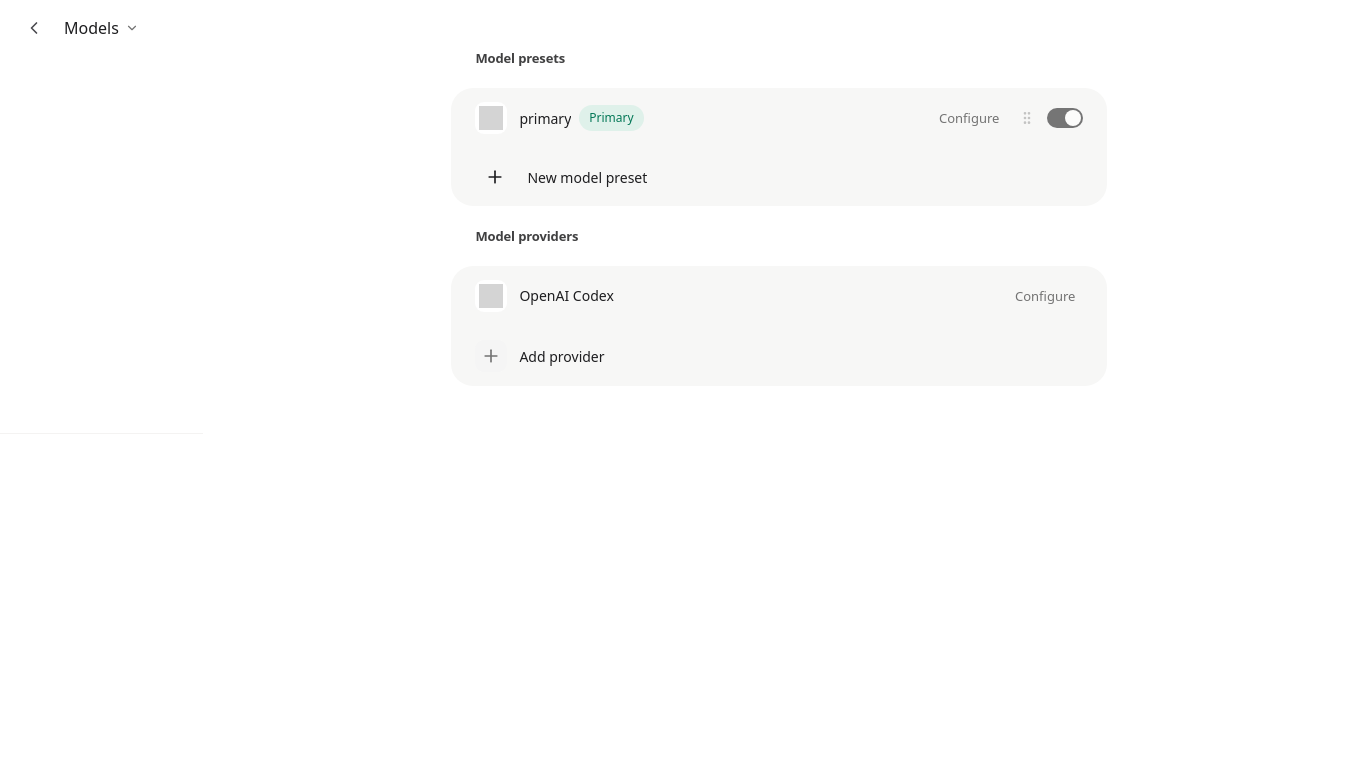
Test: Settings models › reauthenticates from the catalog and preserves the preset draft (poll)
The image size is (1366, 768).
Click the button "New model preset".
click(587, 177)  # box [451,148,1107,206]
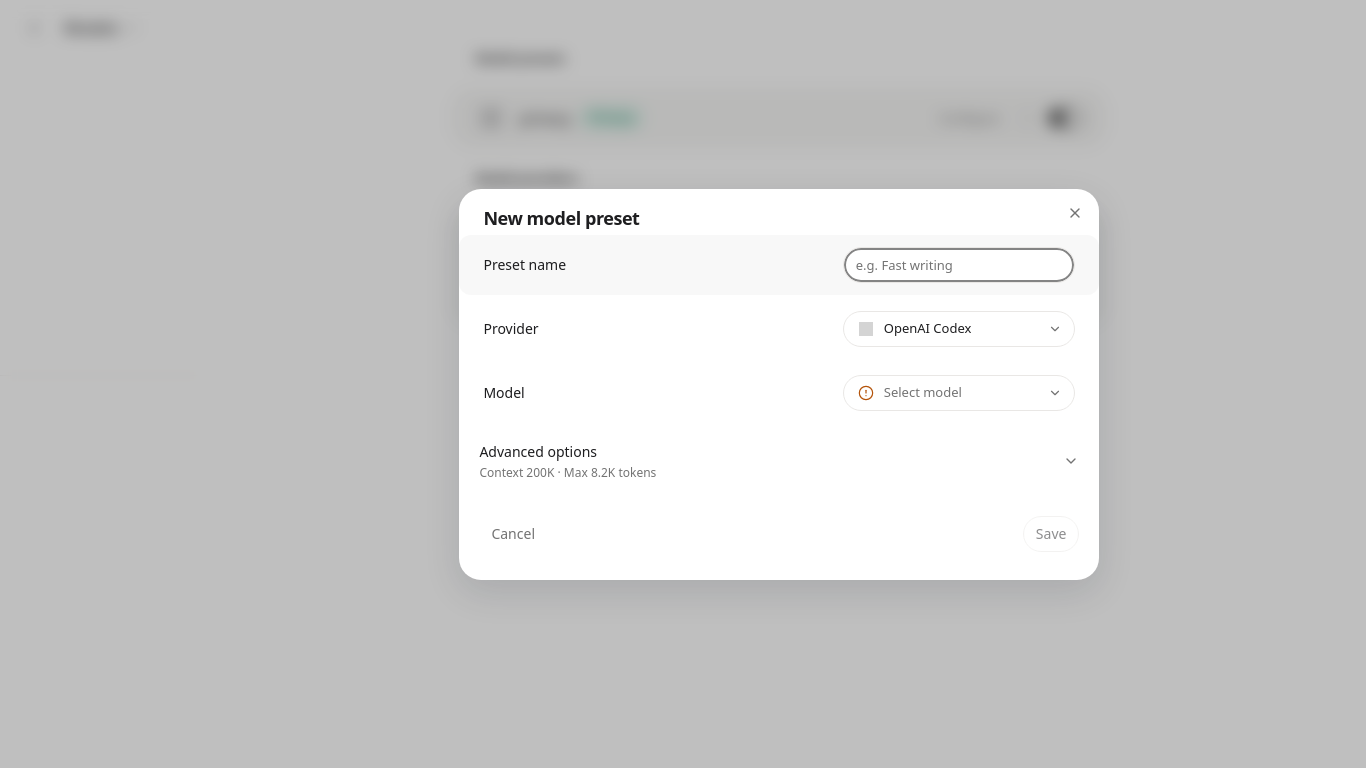
Type "My unsaved preset" into the field named "Preset name".
click(959, 264); type("My unsaved preset")  # box [843,246,1076,282]
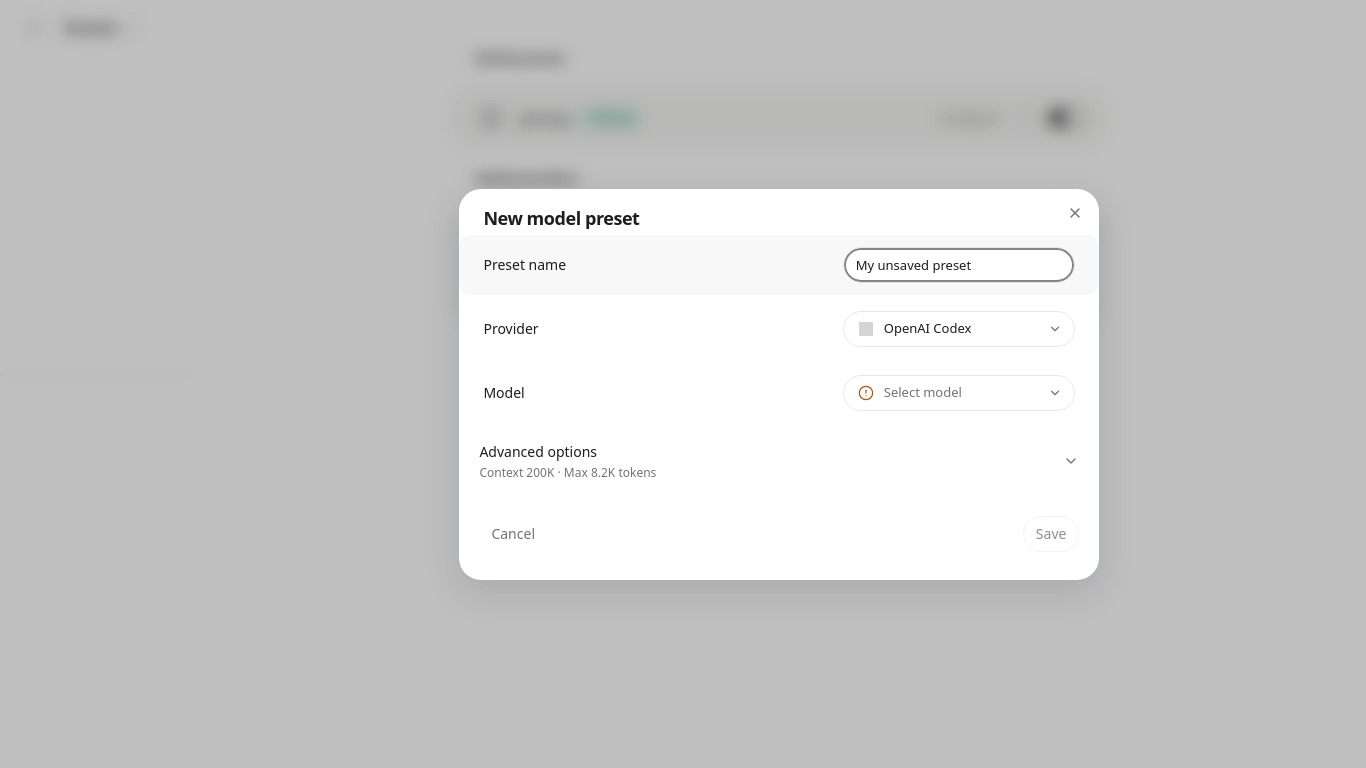
Click the button "Select model".
click(959, 392)  # box [843,374,1076,410]
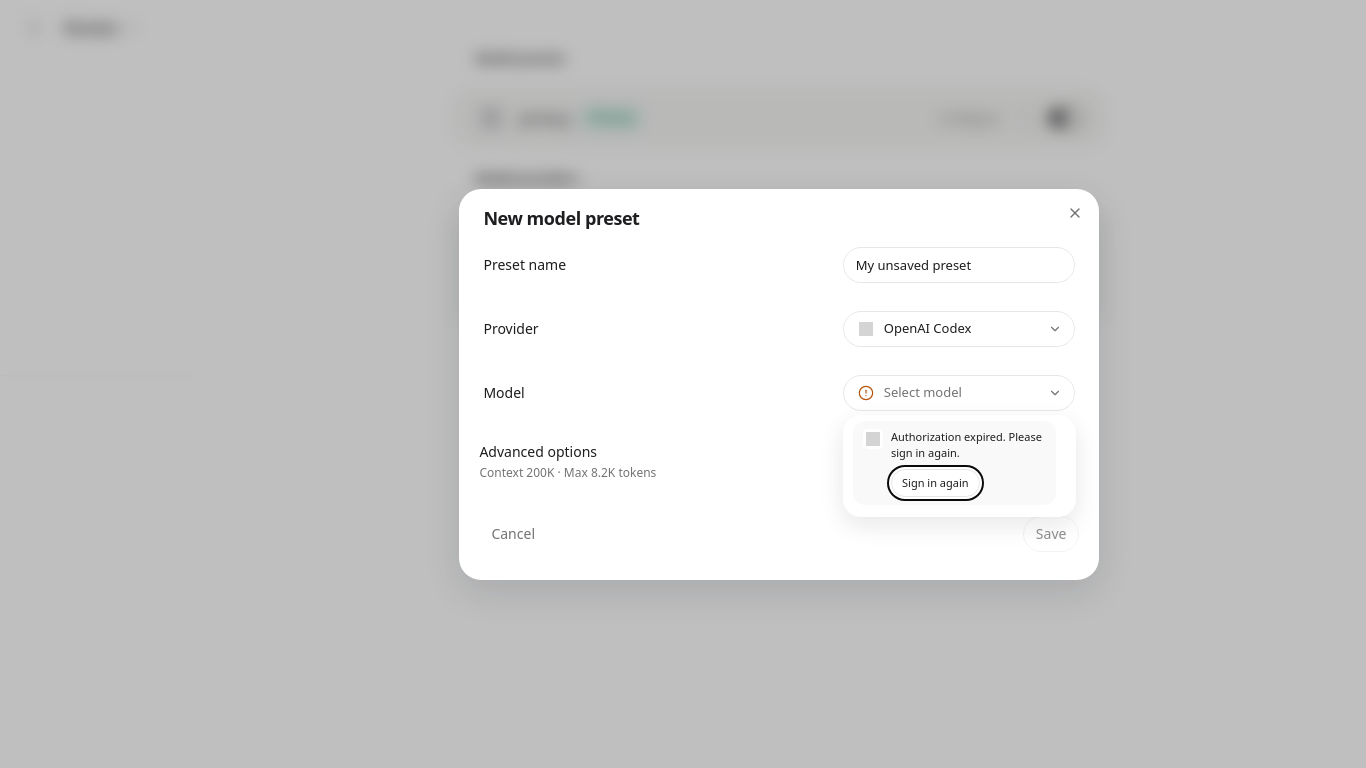
Click the button "Sign in again".
click(935, 483)  # box [891,469,980,497]
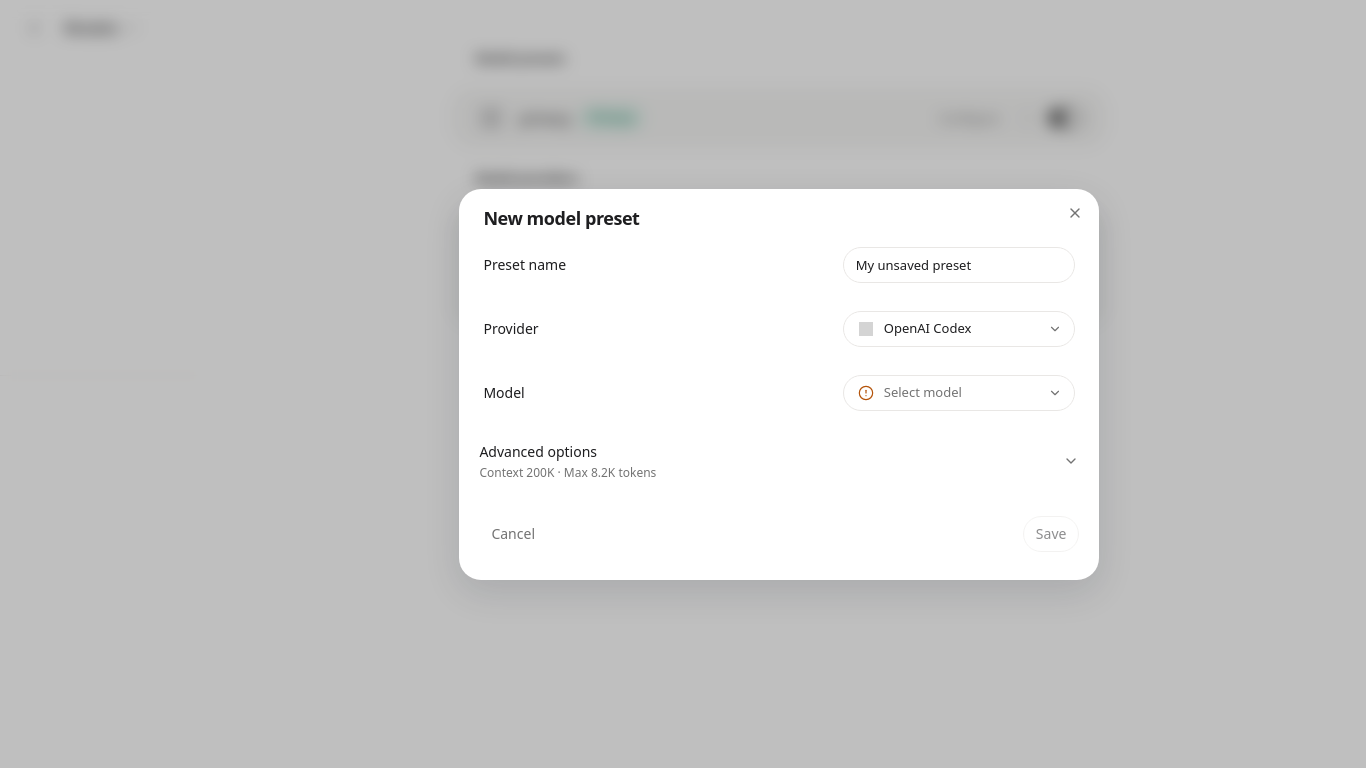
Click the button "Select model".
click(959, 392)  # box [843,374,1076,410]
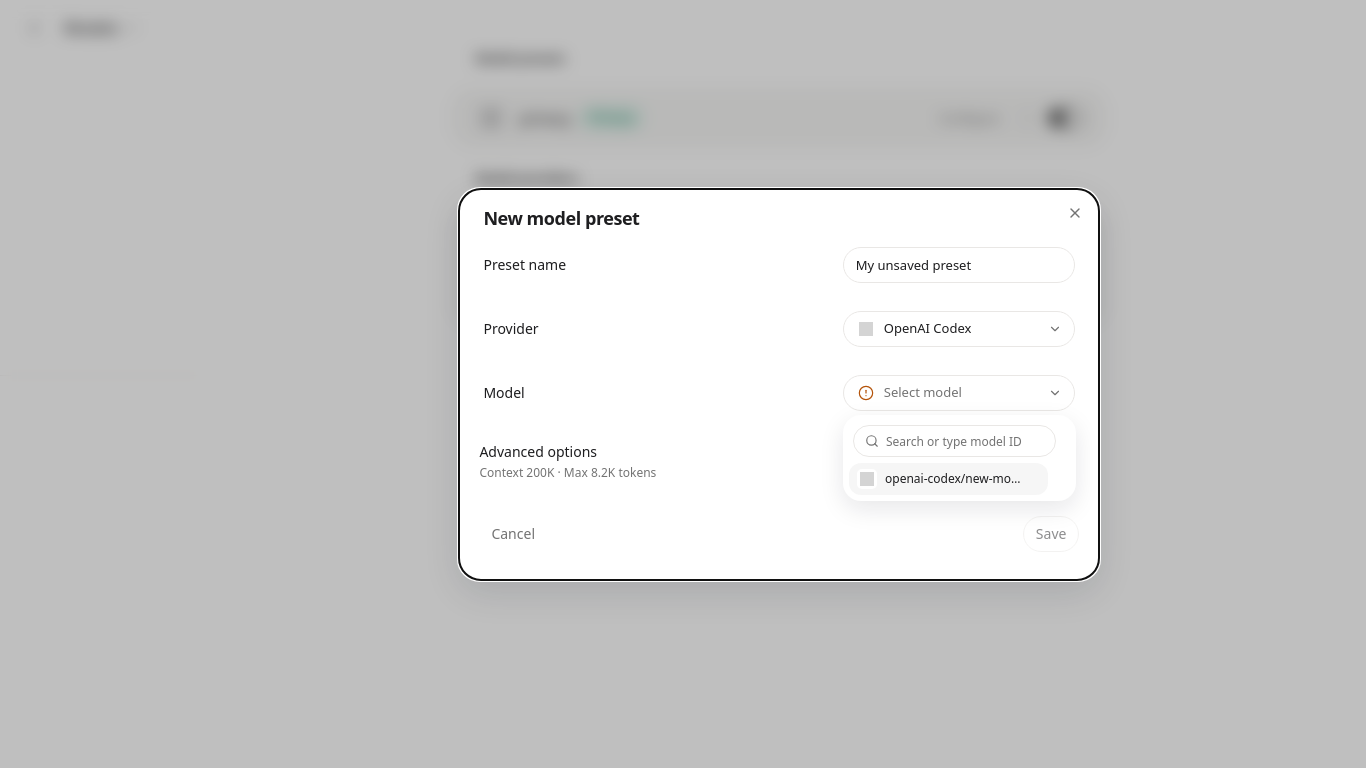
Expected: the text "Authorization expired. Please sign in again." is not shown
Expected: the option "openai-codex/new-model" is shown, [849,463,1048,495]
